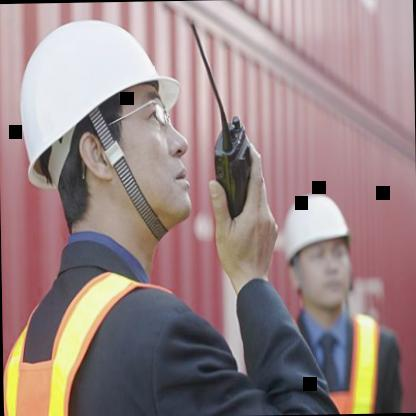helmet: (0, 4, 204, 263), (270, 176, 360, 324)
